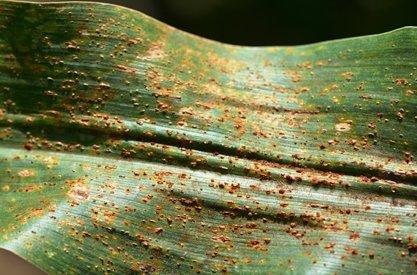Corn rust leaf: (1, 1, 417, 275)
